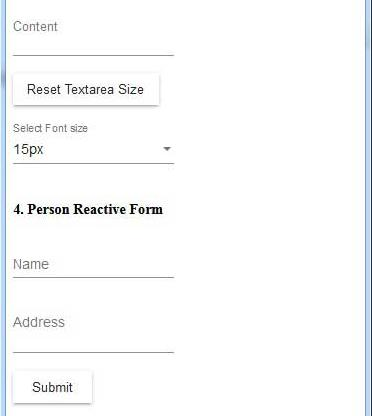button: (8, 71, 165, 109), (8, 368, 89, 408)
field_line: (10, 123, 177, 167), (9, 314, 179, 356), (10, 17, 175, 60), (8, 248, 176, 281)
